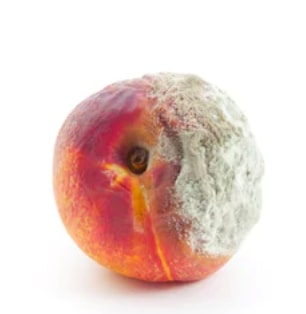damaged_peach: (55, 76, 258, 281)
